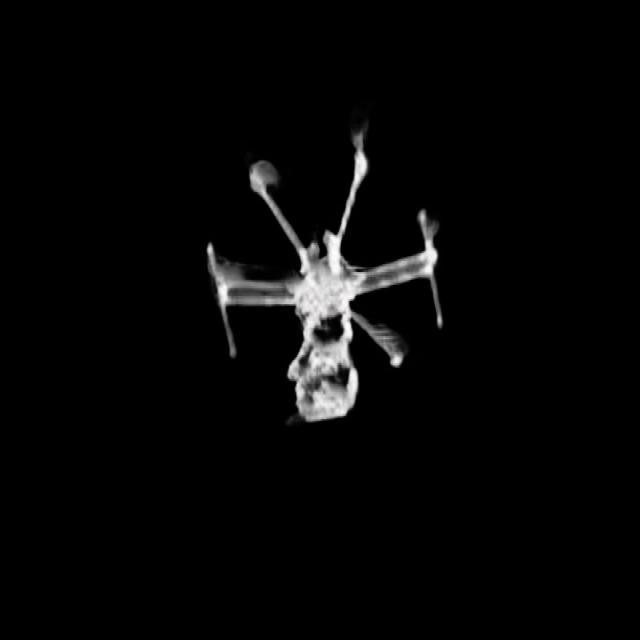drone: (204, 104, 449, 432)
